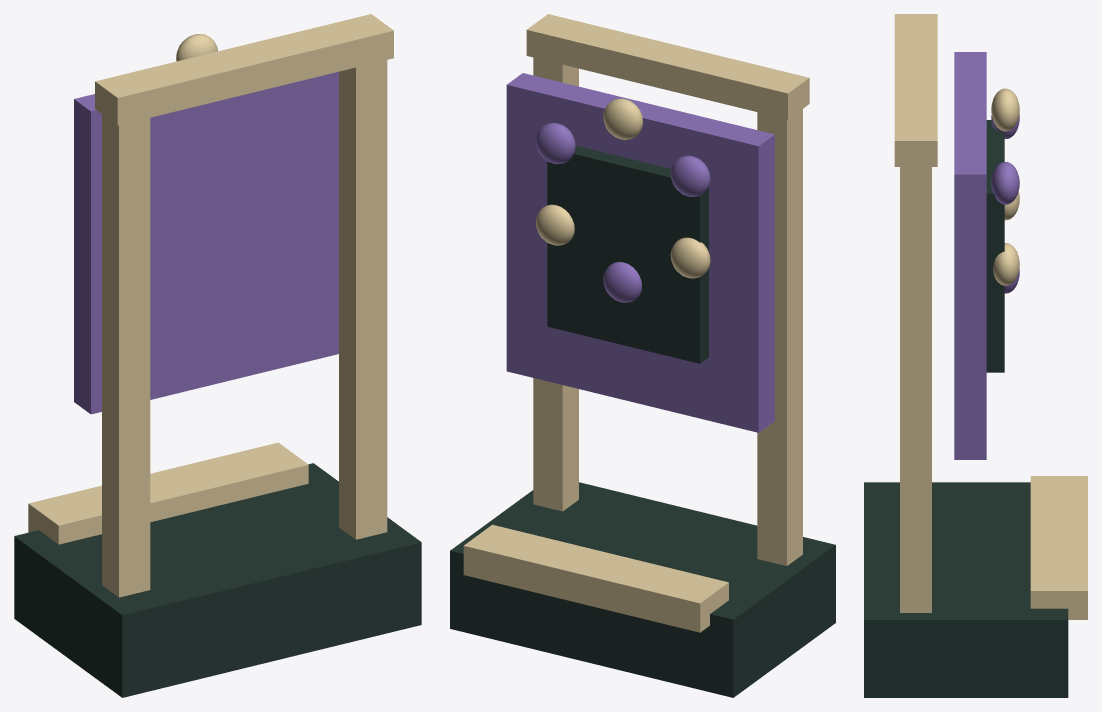
File: fanstand.moon-foxes-old.glb
3 renders of one model, left to right at view 1: azimuth 30°, elevation 25°; view 2: azimuth 150°, elevation 25°; view 3: azimuth 270°, elevation 25°, orthographic. The views are drawn at different scales.
Visible parts, largest first — view 1: support plinth; view 2: support plinth; view 3: support plinth.
Boxes of the visible parts, x1,y1,x2,y2 form: support plinth: (14,14,421,697); support plinth: (450,14,835,697); support plinth: (864,14,1087,697).
Bounding box in the file's own units: 0.91 × 1.7 × 0.625.
